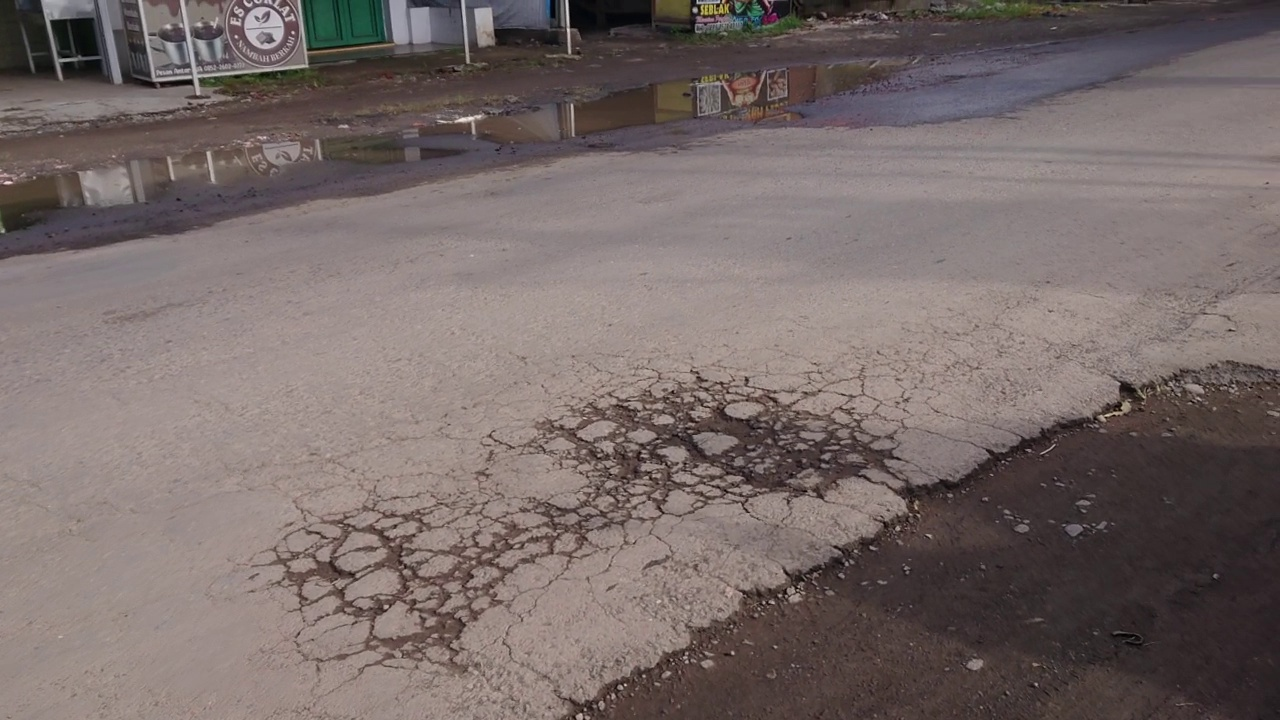Retak: (311, 336, 869, 667), (825, 308, 1031, 428)
